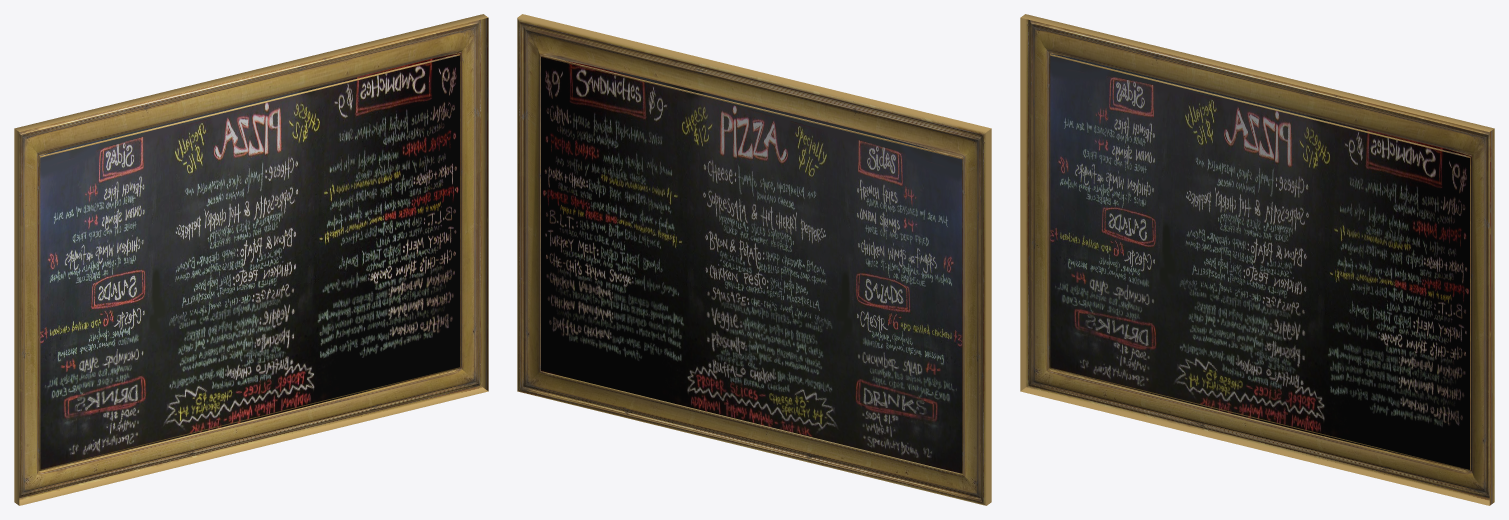
Rendered from deck.obj.
3 renders of one model, left to right at view 1: azimuth 30°, elevation 25°; view 2: azimuth 150°, elevation 25°; view 3: azimuth 330°, elevation 25°, orthographic.
Parts seen in each view (by area): view 1: MenuChalkboard BackWall geometry, MenuChalkboard BackWall geometry Frame; view 2: MenuChalkboard BackWall geometry, MenuChalkboard BackWall geometry Frame; view 3: MenuChalkboard BackWall geometry, MenuChalkboard BackWall geometry Frame.
Part boxes in pixels (bbox=[...]): MenuChalkboard BackWall geometry: bbox=[39, 53, 461, 470]; MenuChalkboard BackWall geometry Frame: bbox=[14, 14, 488, 505]; MenuChalkboard BackWall geometry: bbox=[541, 57, 962, 473]; MenuChalkboard BackWall geometry Frame: bbox=[517, 14, 991, 505]; MenuChalkboard BackWall geometry: bbox=[1049, 53, 1471, 470]; MenuChalkboard BackWall geometry Frame: bbox=[1020, 14, 1494, 505].
Bounding box in the file's own units: 4 × 3.04 × 0.0807.
